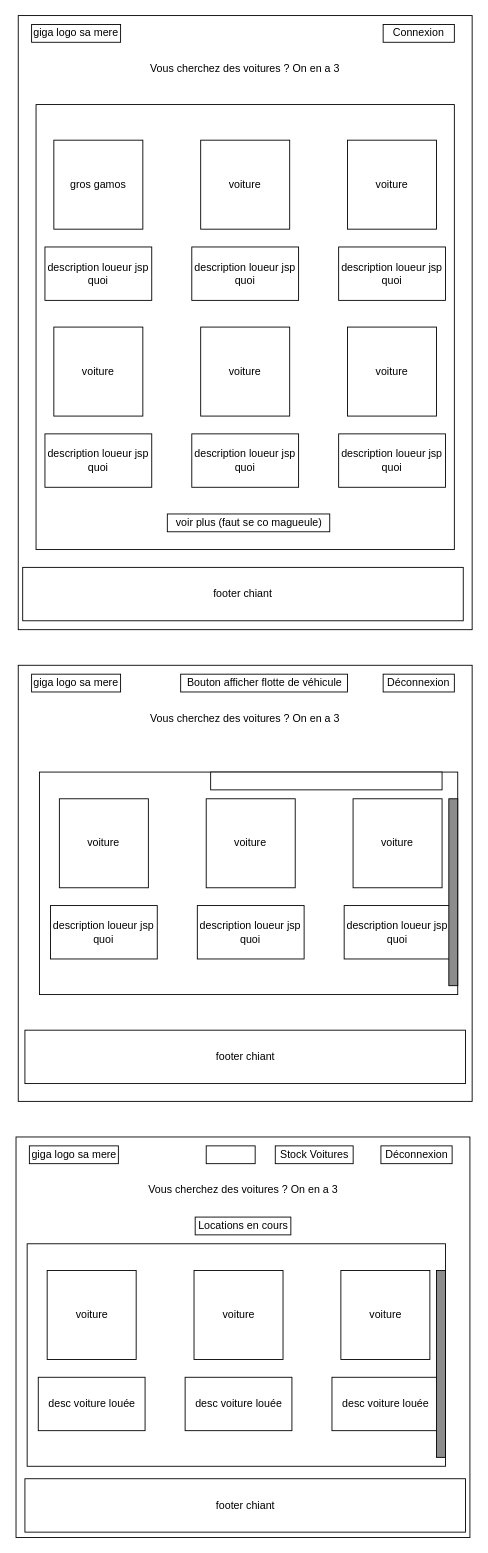
This 488x1553 diagram has some shape labels left out. The shapes that lost their labels are listed below. From the top down, each one's box as (x1, y1, x2, y2) in pixels, then its label:
(210, 771, 442, 790): Check Box : voiture dispo / toutes les voitures
(205, 1145, 255, 1164): facture
